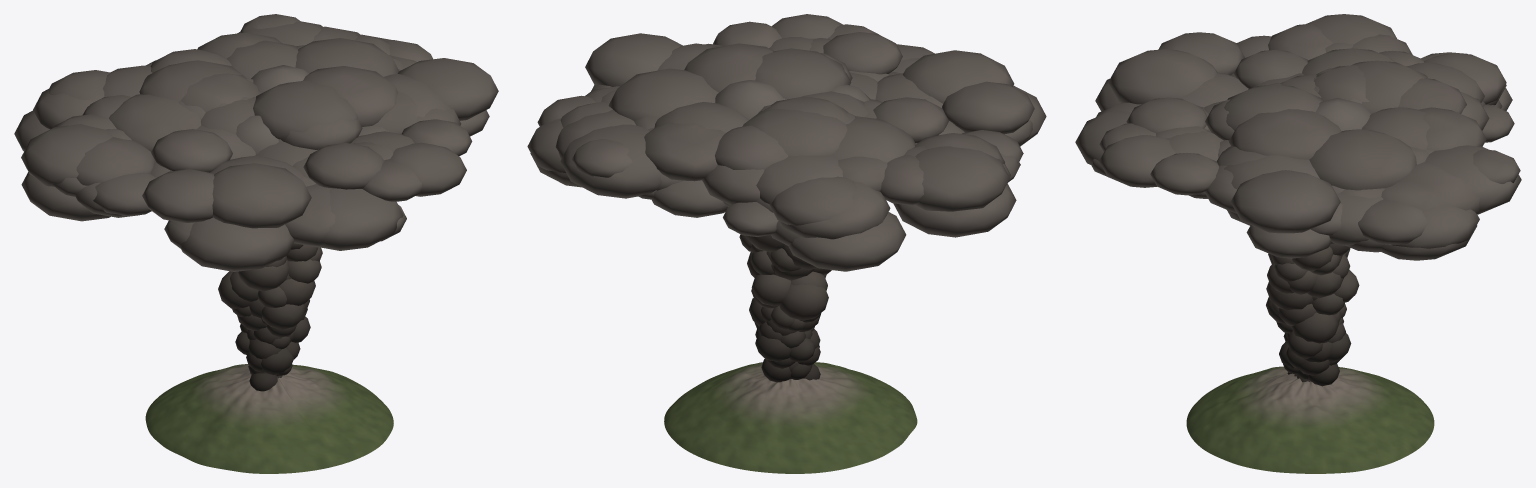
Rendered from pompeii-kit.glb.
The picture shows the model from 3 angles, left to right: view 1: azimuth 30°, elevation 25°; view 2: azimuth 150°, elevation 25°; view 3: azimuth 270°, elevation 25°; orthographic projection. The views are drawn at different scales.
Visible parts, largest first — view 1: EruptionColumn_cloth, Vesuvius_stone; view 2: EruptionColumn_cloth, Vesuvius_stone; view 3: EruptionColumn_cloth, Vesuvius_stone.
Part boxes in pixels (box(x1,y1,x2,y2)): EruptionColumn_cloth: box(14, 14, 498, 391); Vesuvius_stone: box(145, 364, 393, 473); EruptionColumn_cloth: box(527, 14, 1046, 382); Vesuvius_stone: box(664, 362, 917, 473); EruptionColumn_cloth: box(1075, 14, 1521, 386); Vesuvius_stone: box(1186, 366, 1434, 473).
Bounding box in the file's own units: 3630 × 2749 × 3243.
